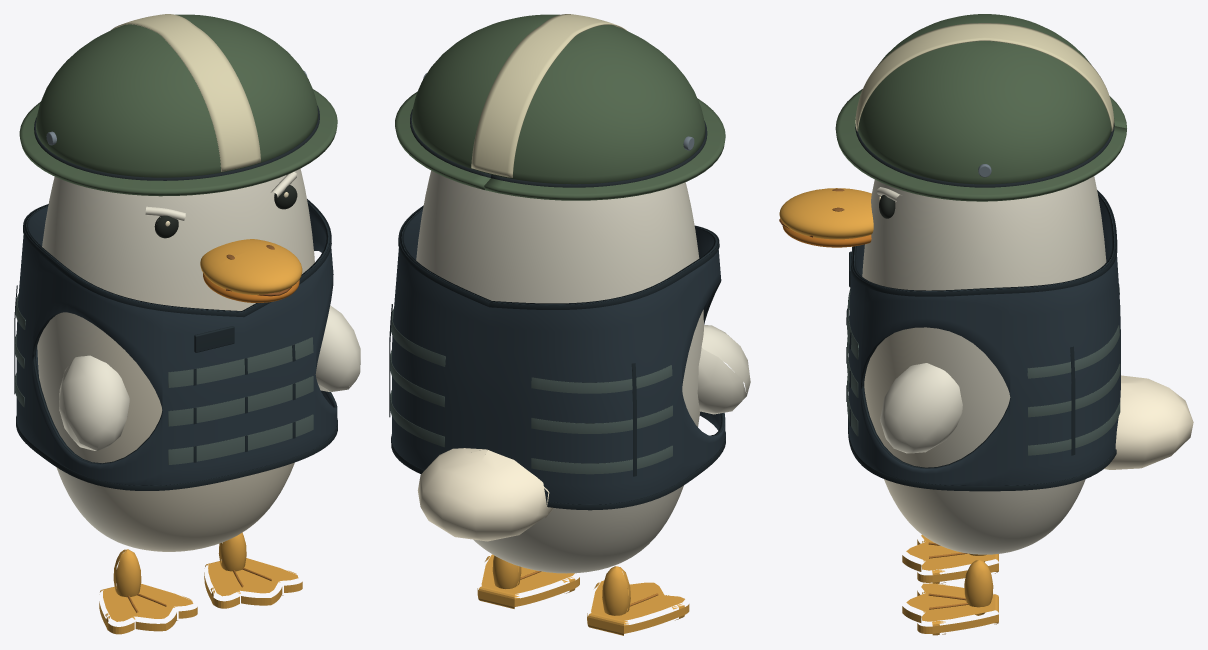
File: goose-headwear-stripe-character.glb
3 renders of one model, left to right at view 1: azimuth 30°, elevation 25°; view 2: azimuth 150°, elevation 25°; view 3: azimuth 270°, elevation 25°, orthographic. The views are drawn at different scales.
Parts seen in each view (by area): view 1: goose_vest_refined_mesh, goose_headwear_stripe_mesh, goose_torso_mesh, goose_leftArm_mesh, goose_beak_mesh, goose_leftFoot_mesh, goose_rightFoot_mesh, goose_rightArm_mesh; view 2: goose_vest_refined_mesh, goose_headwear_stripe_mesh, goose_torso_mesh, goose_tail_mesh, goose_leftFoot_mesh, goose_leftArm_mesh, goose_rightFoot_mesh; view 3: goose_headwear_stripe_mesh, goose_torso_mesh, goose_vest_refined_mesh, goose_rightArm_mesh, goose_tail_mesh, goose_beak_mesh, goose_rightFoot_mesh, goose_leftFoot_mesh.
Boxes of the visible parts, x1,y1,x2,y2 form: goose_vest_refined_mesh: (14,199,337,490); goose_headwear_stripe_mesh: (19,14,337,196); goose_torso_mesh: (37,168,314,551); goose_leftArm_mesh: (59,355,129,450); goose_beak_mesh: (200,239,302,302); goose_leftFoot_mesh: (99,549,197,634); goose_rightFoot_mesh: (204,532,302,608); goose_rightArm_mesh: (315,305,360,391); goose_vest_refined_mesh: (389,205,725,510); goose_headwear_stripe_mesh: (395,14,725,200); goose_torso_mesh: (416,170,703,573); goose_tail_mesh: (417,448,553,541); goose_leftFoot_mesh: (587,566,689,635); goose_leftArm_mesh: (697,325,750,414); goose_rightFoot_mesh: (477,554,579,608); goose_headwear_stripe_mesh: (835,14,1126,201); goose_torso_mesh: (862,176,1106,554); goose_vest_refined_mesh: (846,190,1120,491); goose_rightArm_mesh: (880,363,962,453); goose_tail_mesh: (1104,375,1193,469); goose_beak_mesh: (779,188,873,247); goose_rightFoot_mesh: (902,560,998,635); goose_leftFoot_mesh: (902,535,998,583).
Bounding box in the file's own units: 1.1 × 2.04 × 1.37.
